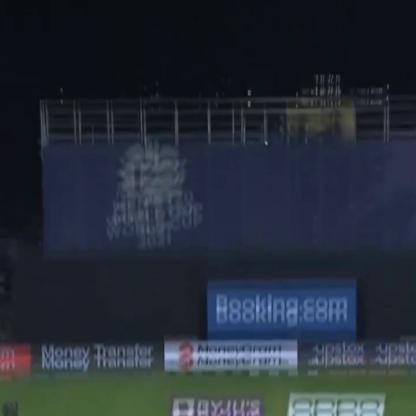ball: (259, 138, 274, 147)
